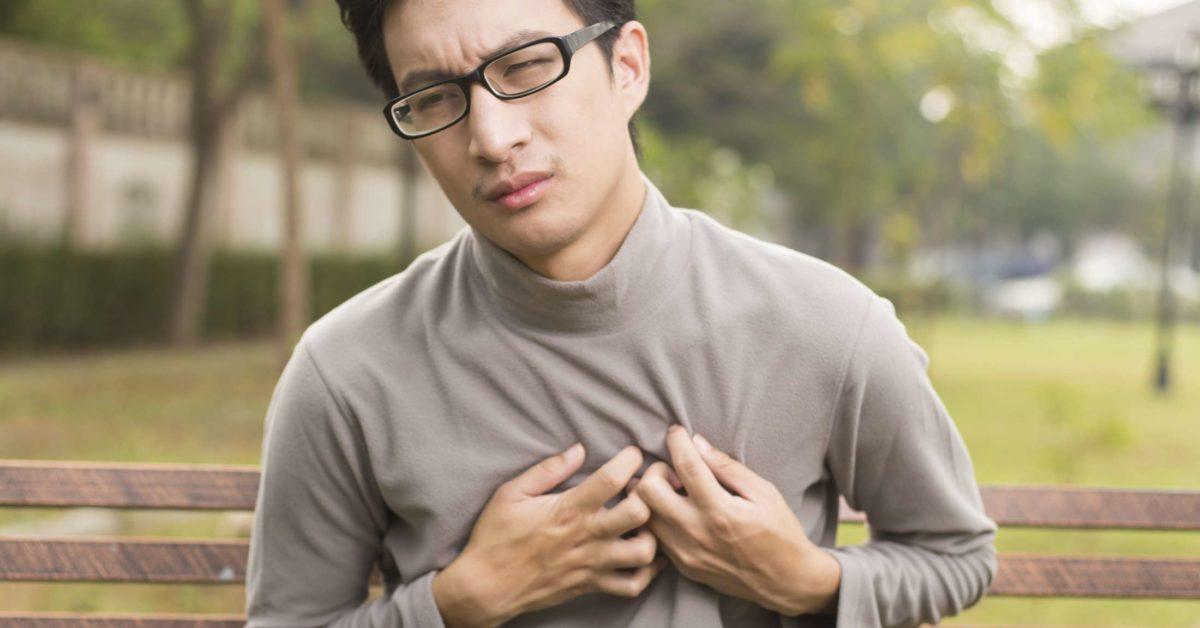pain: (384, 23, 582, 144)
